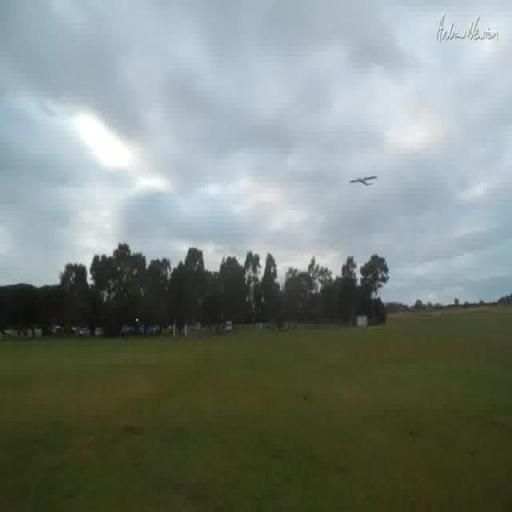uav: (342, 169, 380, 191)
